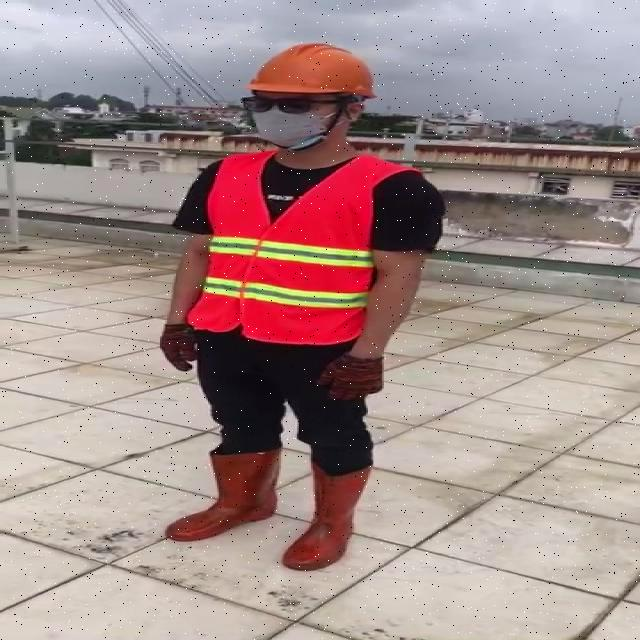Hard_hat: (238, 40, 384, 111)
Person: (157, 33, 451, 628)
Vest: (201, 143, 381, 346)
